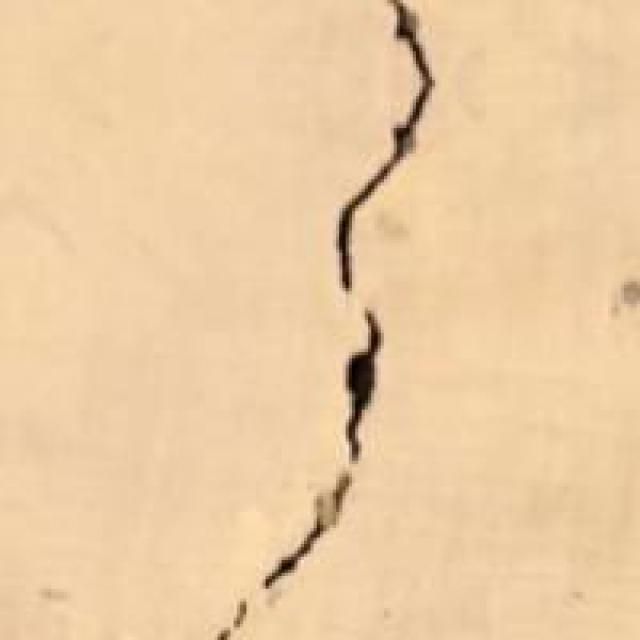Crack: (179, 3, 486, 637)
